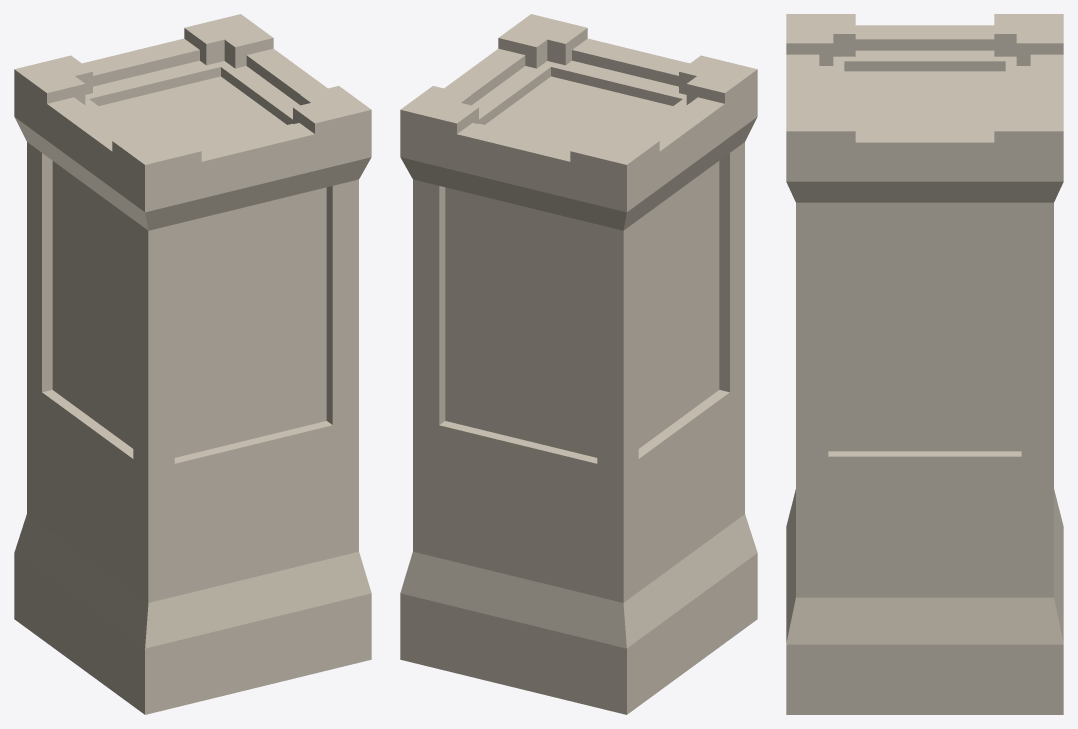
File: rempart-tour.glb
3 renders of one model, left to right at view 1: azimuth 30°, elevation 25°; view 2: azimuth 150°, elevation 25°; view 3: azimuth 270°, elevation 25°, orthographic. The views are drawn at different scales.
Parts seen in each view (by area): view 1: tower-square-base; view 2: tower-square-base; view 3: tower-square-base.
Part boxes in pixels (x1,y1,x2,y2): tower-square-base: (14, 14, 371, 714); tower-square-base: (400, 14, 757, 714); tower-square-base: (786, 14, 1063, 714).
Size of the model in its own units: 9 by 20.88 by 9.
